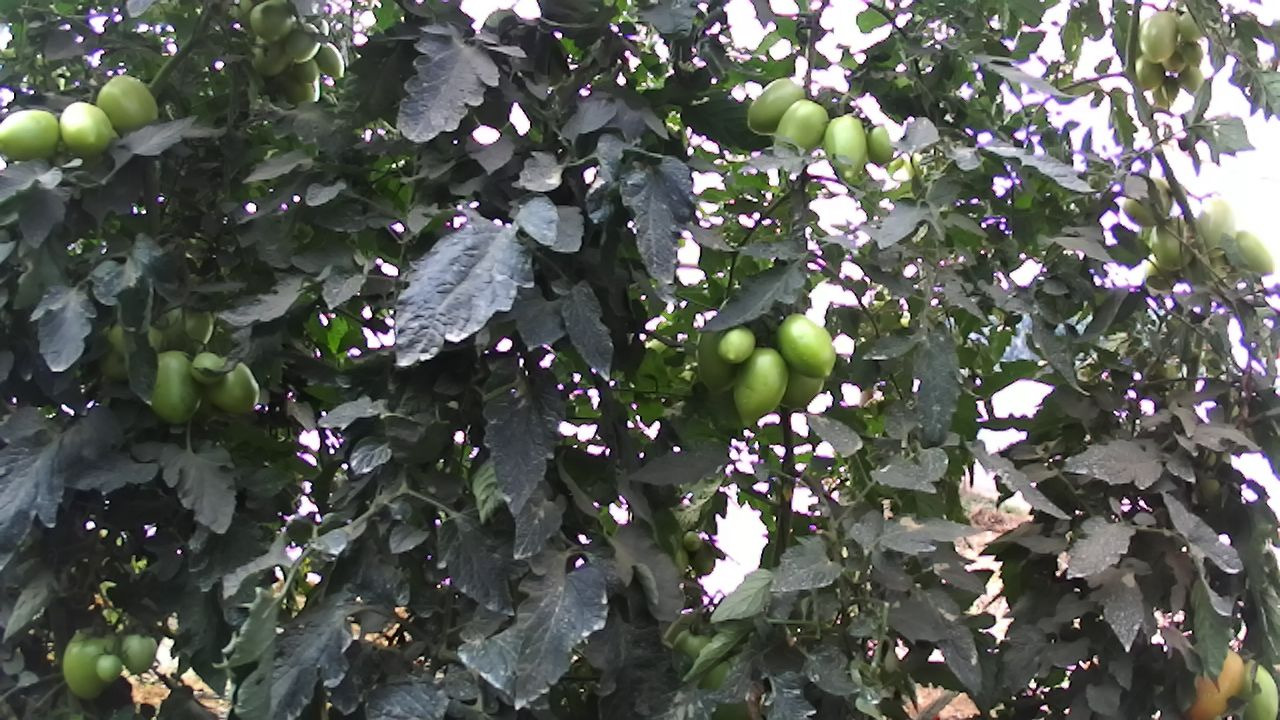tomato: (1167, 640, 1253, 720), (728, 344, 793, 432), (57, 621, 125, 702), (143, 345, 202, 427), (772, 311, 841, 380), (94, 73, 163, 136), (769, 97, 831, 164), (200, 356, 265, 416), (745, 75, 808, 136), (822, 112, 872, 188), (56, 98, 116, 161), (1231, 649, 1280, 720), (0, 106, 63, 161), (1139, 5, 1183, 67), (245, 0, 297, 45), (116, 628, 159, 678), (714, 321, 758, 367), (282, 20, 324, 66), (311, 36, 350, 83), (864, 118, 898, 168), (291, 58, 323, 87), (96, 649, 122, 684)
